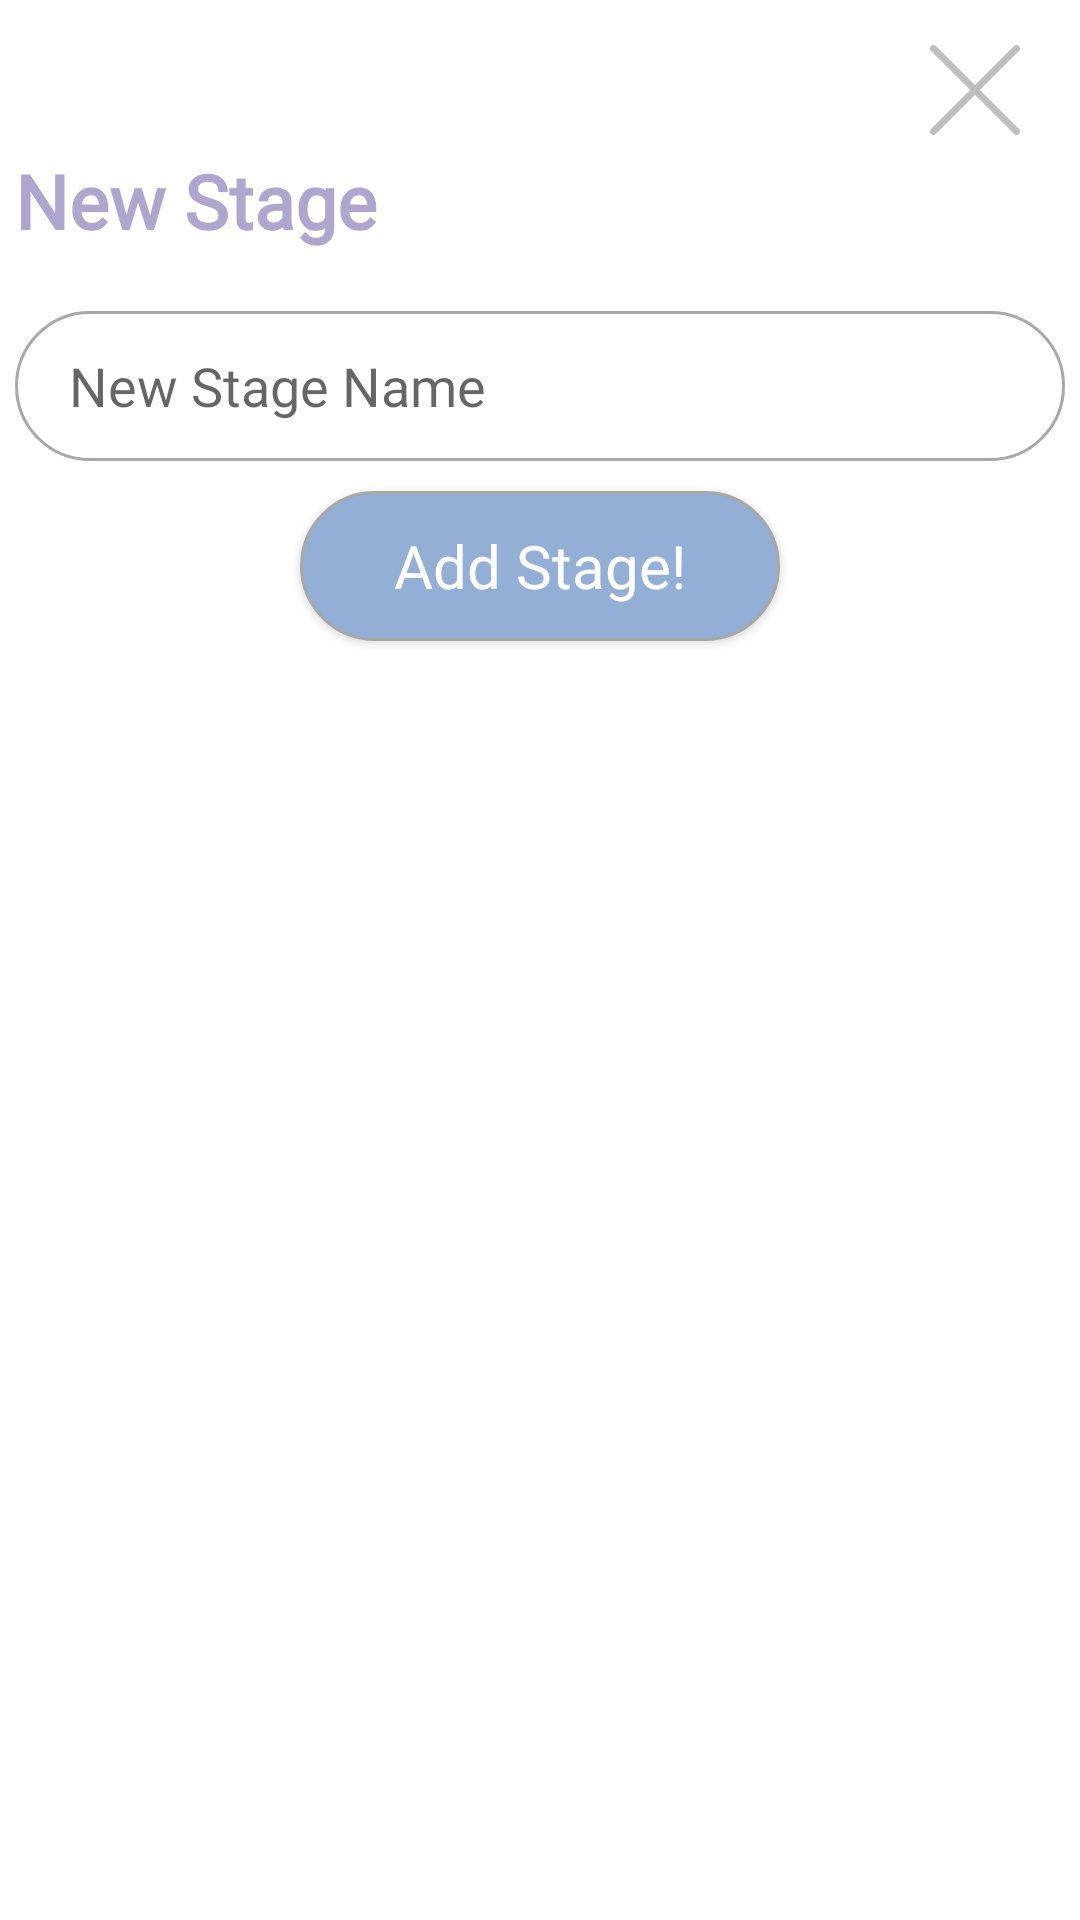

Icon click points for this 1080w x 1920h phone screenshot, format (x,y):
cancel: (975,90)
